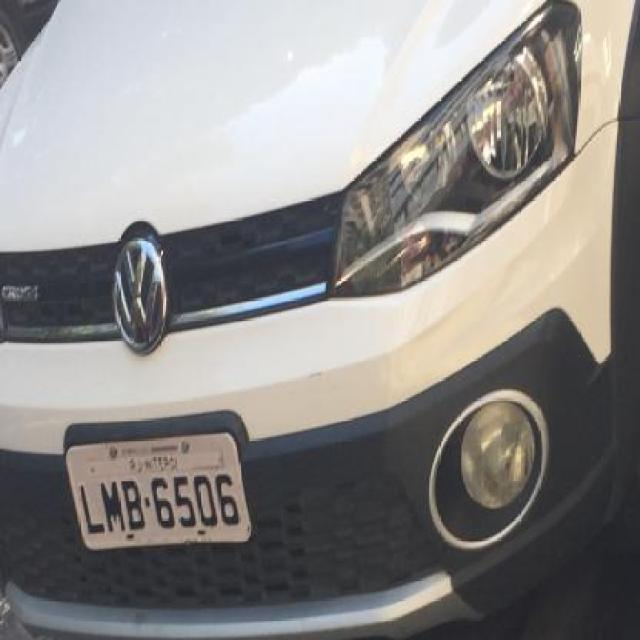old_plate: (61, 426, 259, 558)
